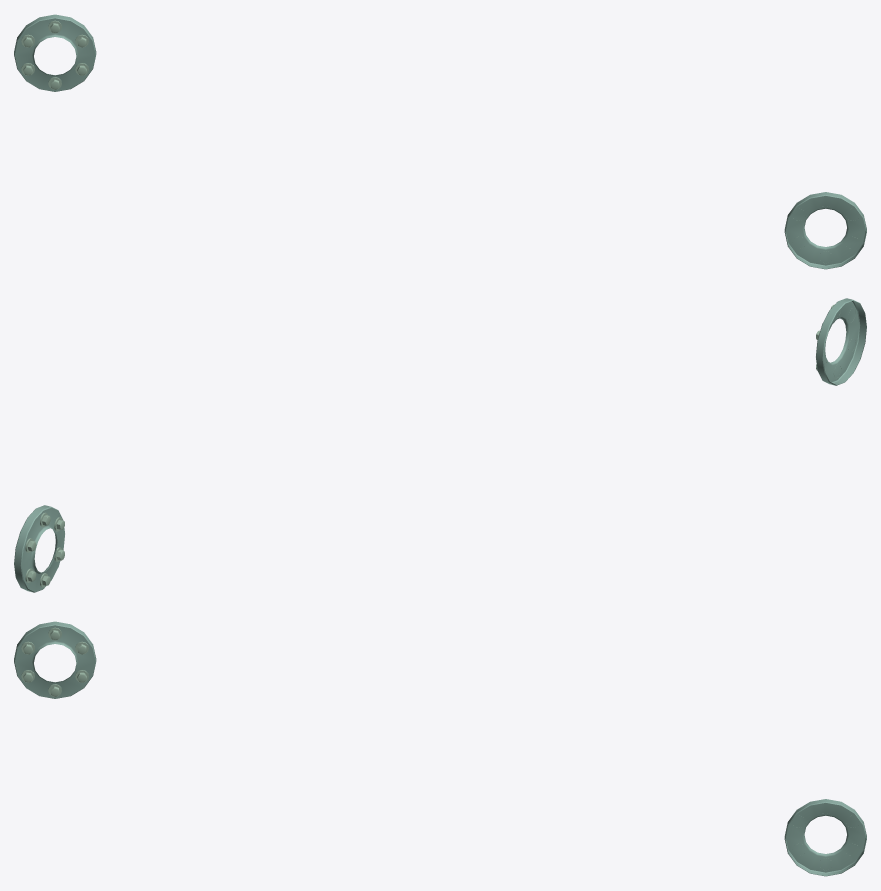
File: PipeComplexLarge_A3_17_End.fbx
3 views of the same model, one above another, from view 1: azimuth 90°, elevation 25°; view 2: azimuth 150°, elevation 25°; view 3: azimuth 270°, elevation 25° (orthographic). The views are drawn at different scales.
Visible parts, largest first — view 1: PipeComplexLarge_A3_17_End.001; view 2: PipeComplexLarge_A3_17_End.001; view 3: PipeComplexLarge_A3_17_End.001.
Boxes of the visible parts, bbox=[...] form: PipeComplexLarge_A3_17_End.001: bbox=[14, 14, 866, 269]; PipeComplexLarge_A3_17_End.001: bbox=[14, 298, 866, 592]; PipeComplexLarge_A3_17_End.001: bbox=[14, 621, 866, 876].
Size of the model in its own units: 2 by 0.3846 by 3.98.
